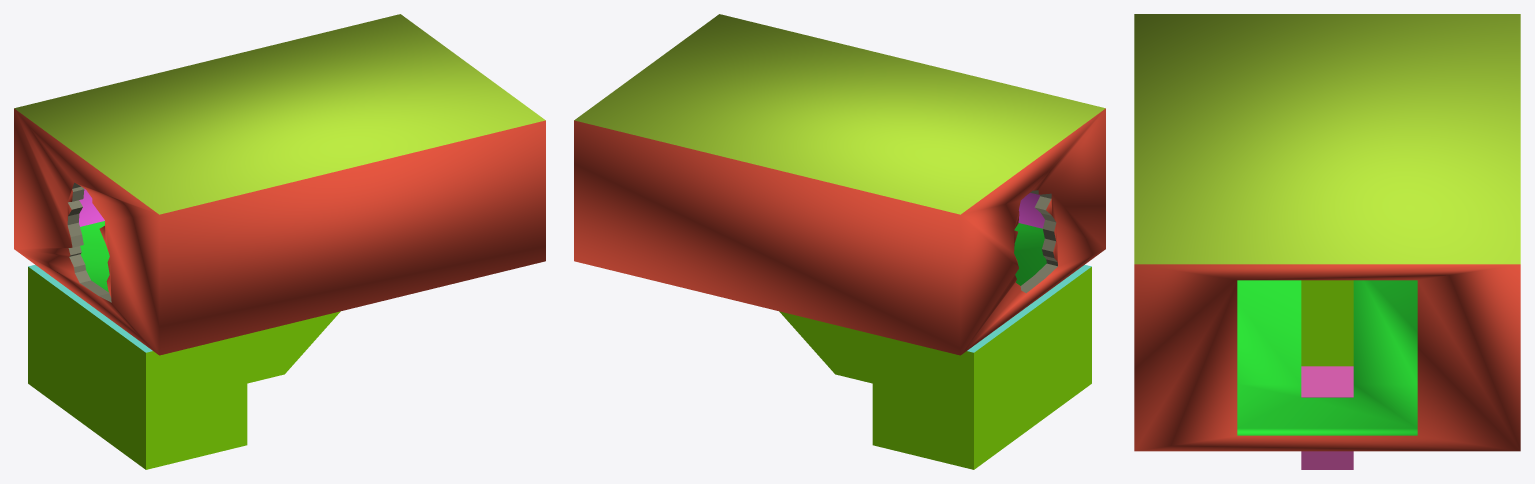
Rendered from holeBasementGarageColl.fbx.
3 renders of one model, left to right at view 1: azimuth 30°, elevation 25°; view 2: azimuth 150°, elevation 25°; view 3: azimuth 270°, elevation 25°, orthographic. The views are drawn at different scales.
Visible parts, largest first — view 1: garage; view 2: garage; view 3: garage.
Part boxes in pixels (<box>): garage: <box>14,14,545,469</box>; garage: <box>574,14,1105,469</box>; garage: <box>1134,14,1520,469</box>.
Size of what is drawn, in the model's own units: 690 by 453 by 450.
